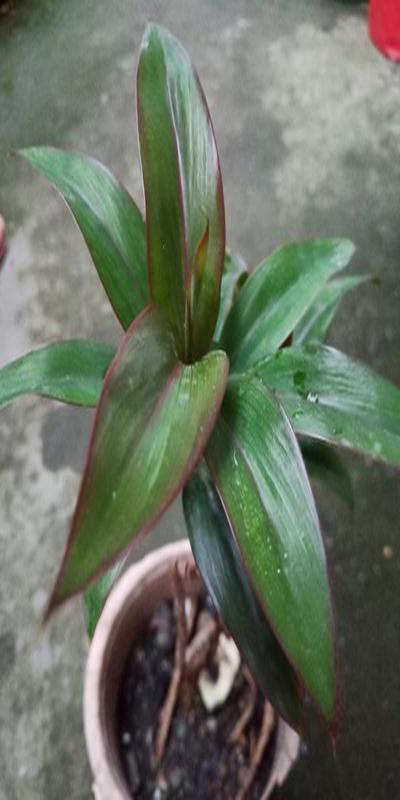Baston de san jose: (59, 22, 374, 771)
